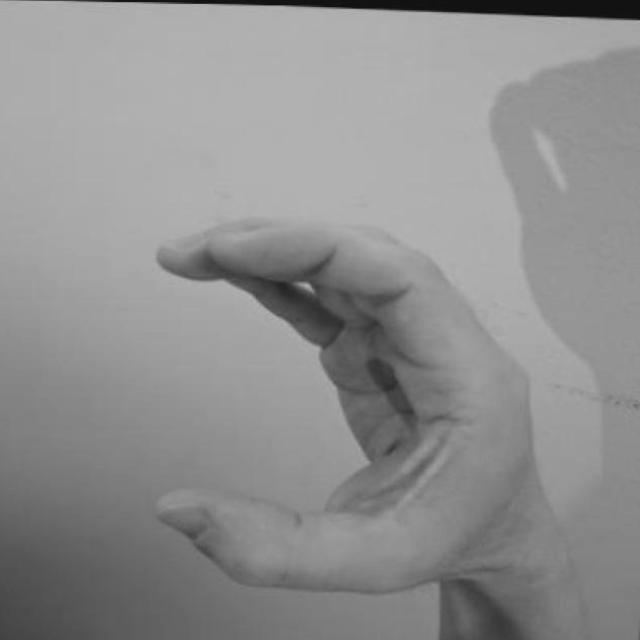C: (143, 215, 622, 617)
